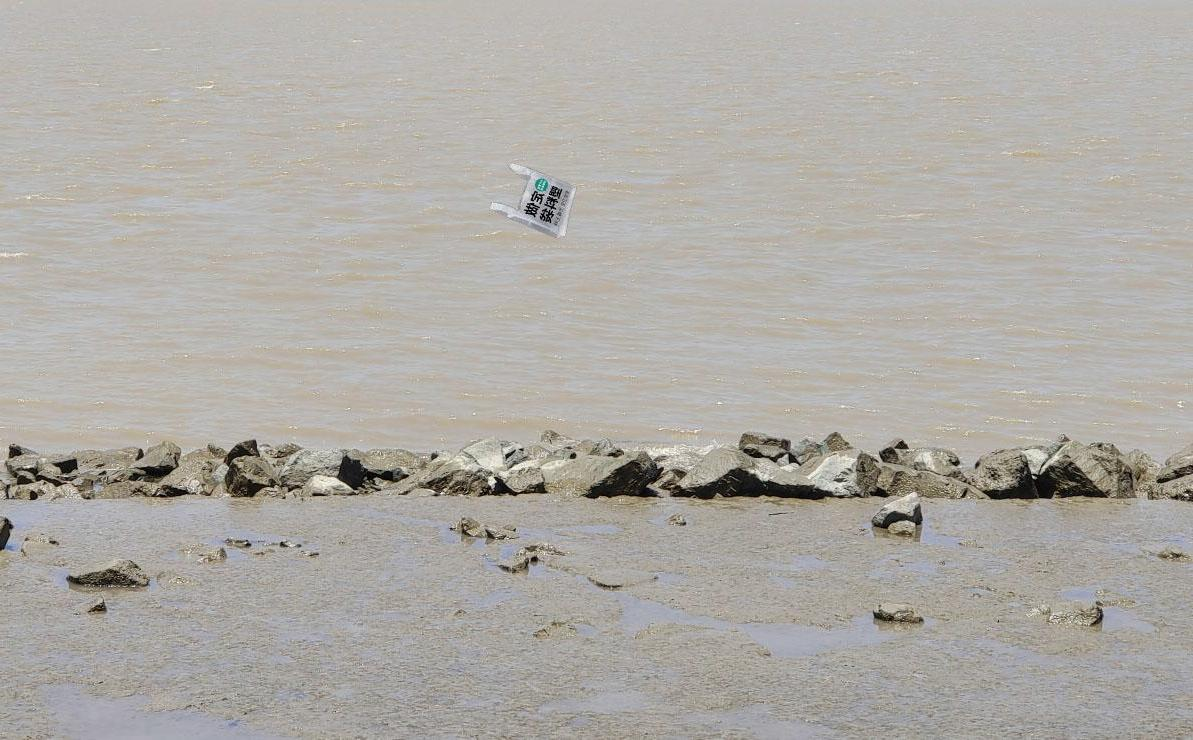Trash: (488, 158, 579, 241)
